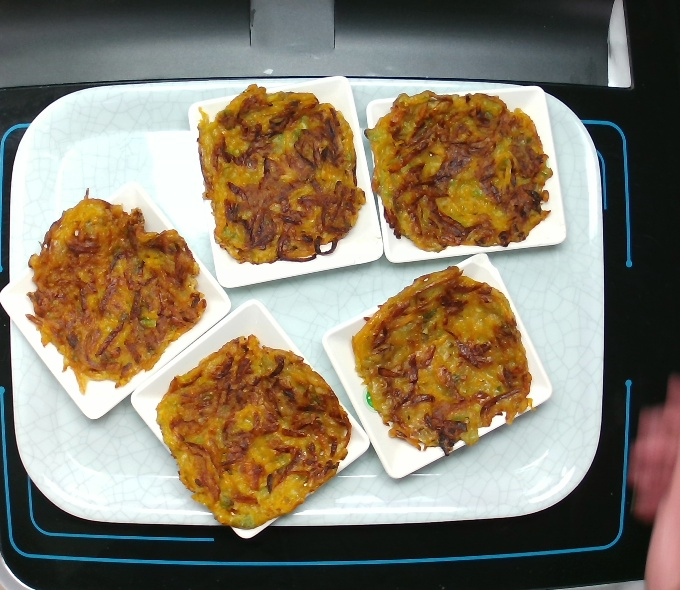wcq-NanGuaBing: (155, 340, 352, 529), (22, 195, 199, 390), (354, 267, 533, 457), (192, 79, 365, 270), (366, 78, 557, 247)
